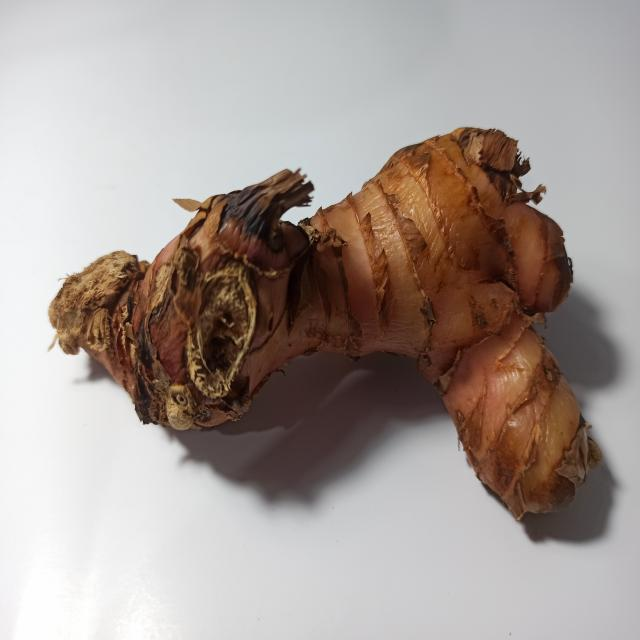ginger: (48, 118, 600, 520)
